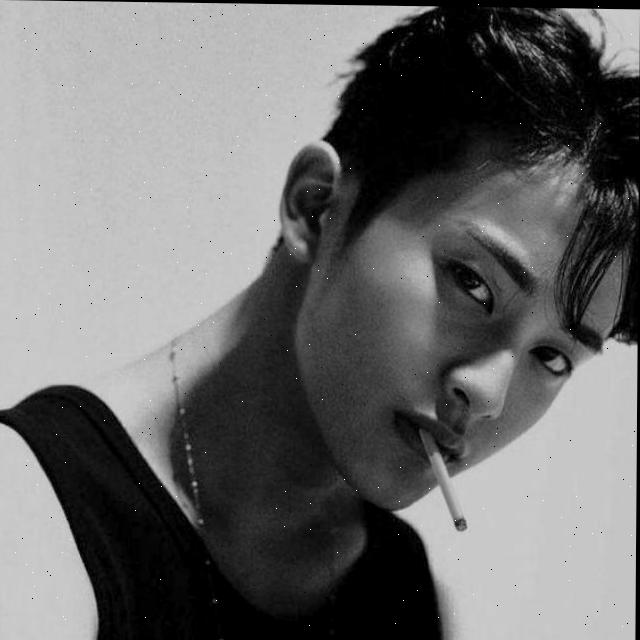cigarette: (418, 428, 470, 530)
